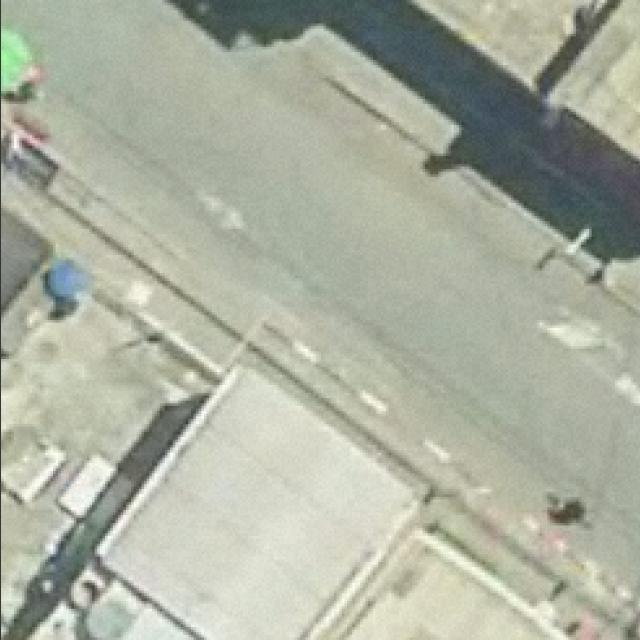vendedor_ambulante: (0, 15, 34, 101)
